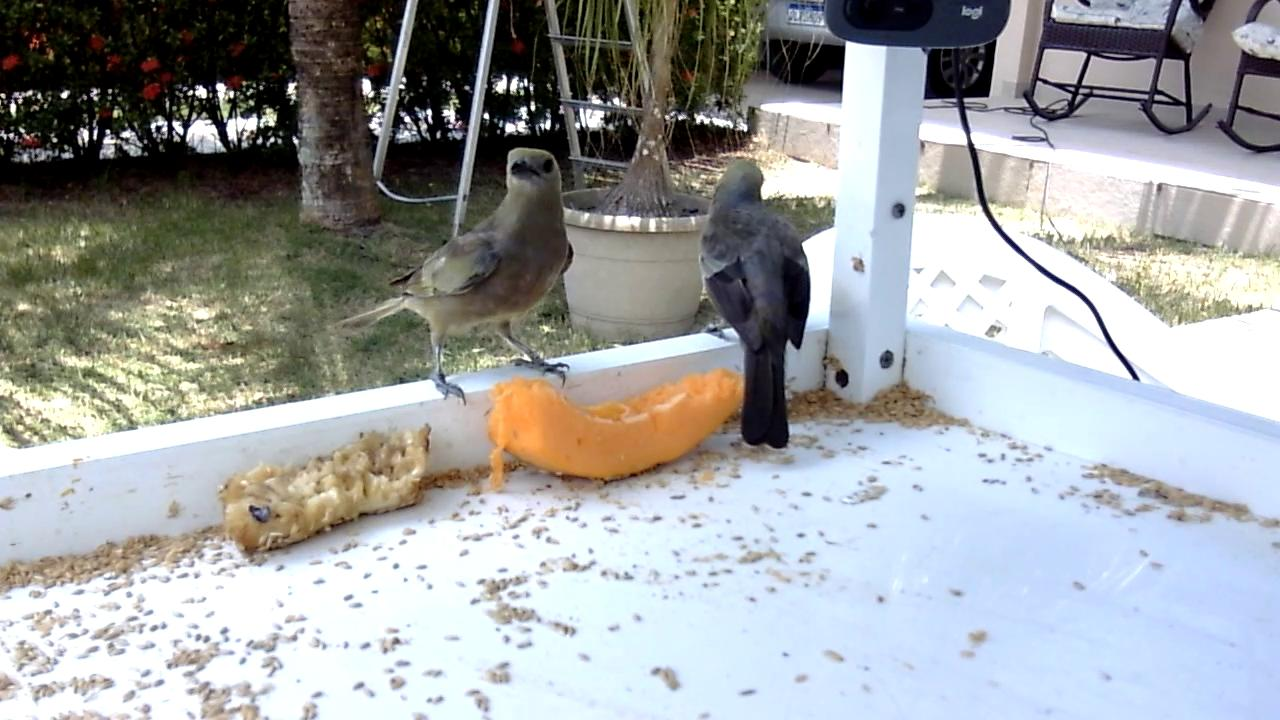sanhaco_do_coqueiro: (331, 147, 579, 410), (695, 158, 815, 454)
